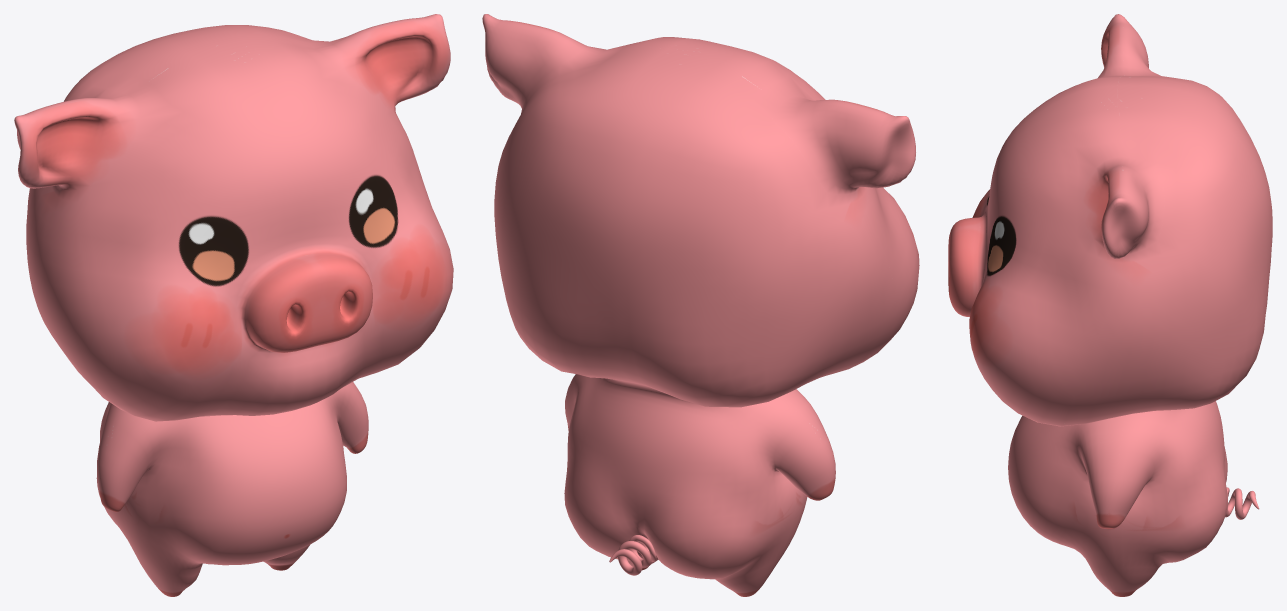
Rendered from Cute Pig.fbx.
The picture shows the model from 3 angles, left to right: view 1: azimuth 30°, elevation 25°; view 2: azimuth 150°, elevation 25°; view 3: azimuth 270°, elevation 25°; orthographic projection. The views are drawn at different scales.
Parts seen in each view (by area): view 1: Pig Body; view 2: Pig Body; view 3: Pig Body.
Part boxes in pixels (x1=…): Pig Body: x1=14, y1=14, x2=453, y2=596; Pig Body: x1=482, y1=14, x2=919, y2=596; Pig Body: x1=948, y1=14, x2=1272, y2=596.
Size of the model in its own units: 213 by 249 by 155.
Materials: 1 (1 with a texture image).
